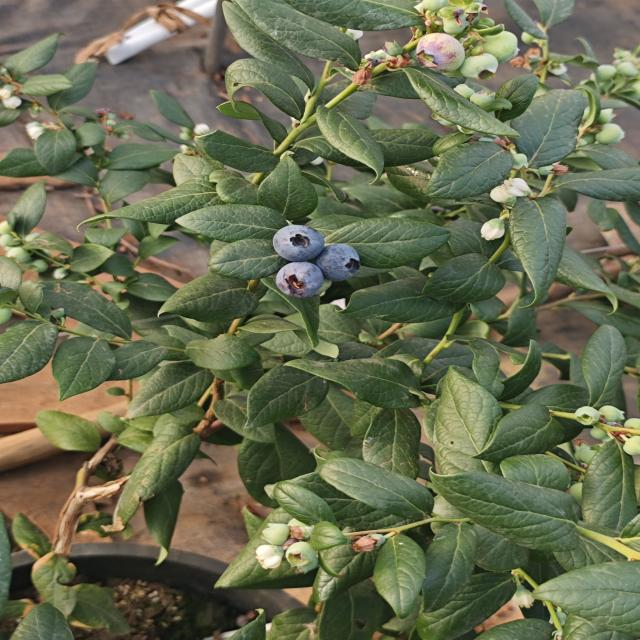ripe: (270, 223, 326, 263), (272, 260, 326, 300), (315, 242, 363, 284)
